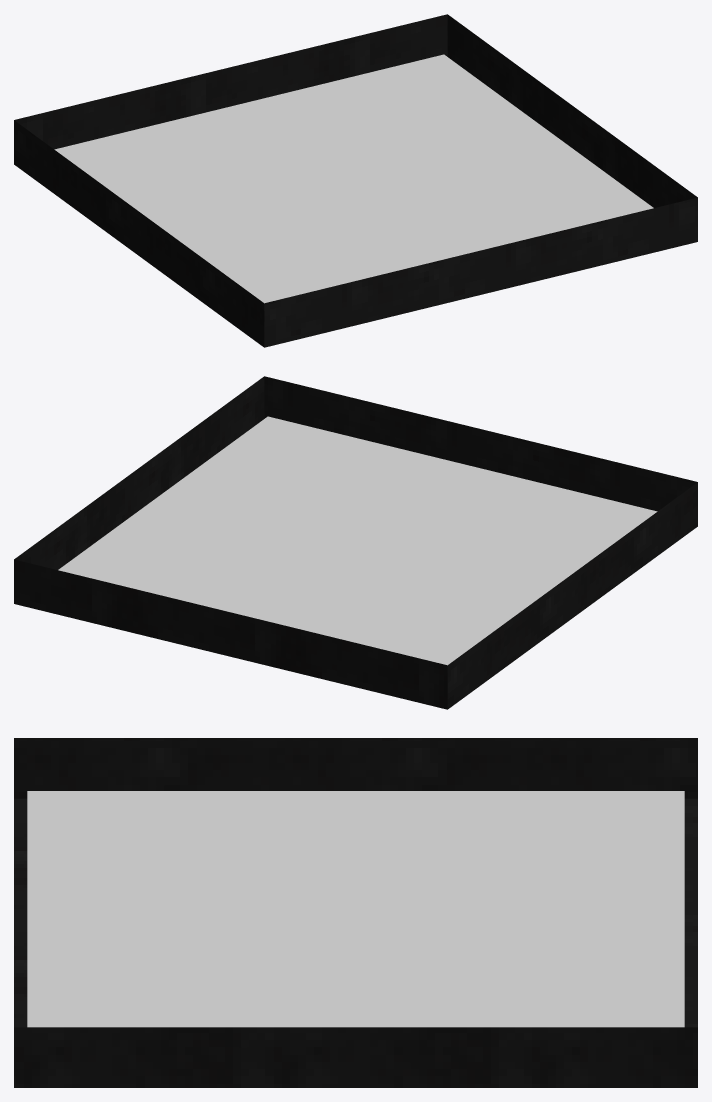
The model's file is square_light.glb.
The picture shows the model from 3 angles, top to bottom: view 1: azimuth 30°, elevation 25°; view 2: azimuth 150°, elevation 25°; view 3: azimuth 270°, elevation 25°; orthographic projection. The views are drawn at different scales.
Visible parts, largest first — view 1: Cube; view 2: Cube; view 3: Cube.
Boxes of the visible parts, x1,y1,x2,y2 form: Cube: (14,14,697,347); Cube: (14,376,697,709); Cube: (14,738,697,1087).
Size of the model in its own units: 0.28 by 0.0274 by 0.28.
Materials: 2 (1 with a texture image).
